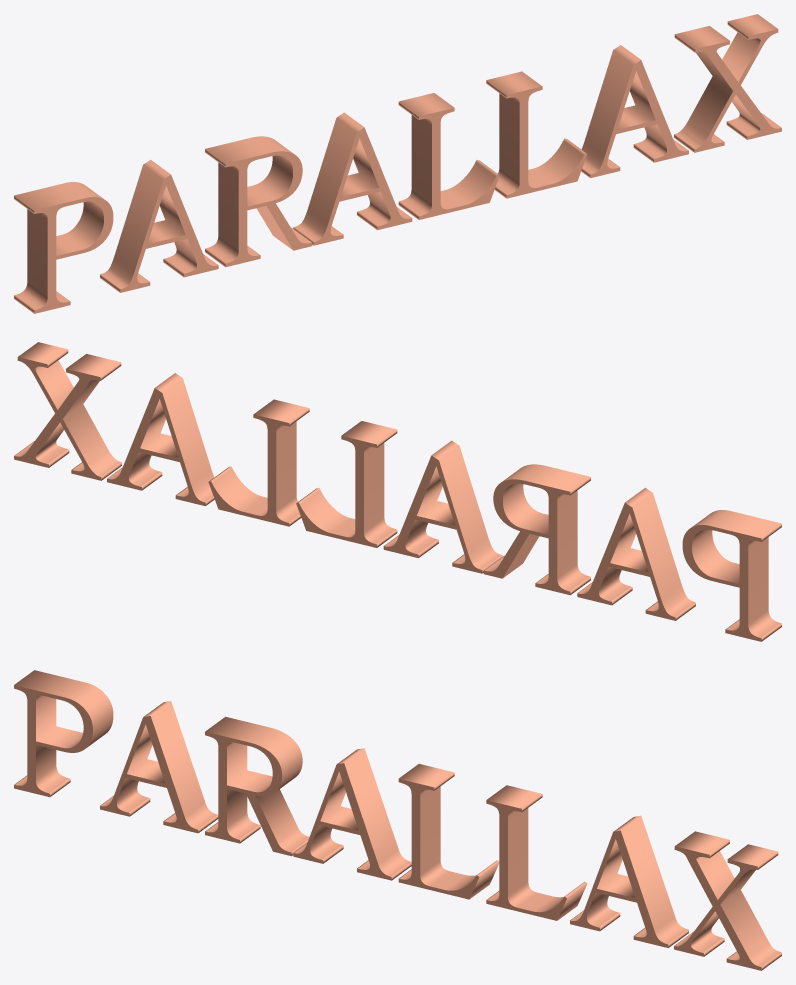
File: parallax_text.gltf
3 views of the same model, one above another, from view 1: azimuth 30°, elevation 25°; view 2: azimuth 150°, elevation 25°; view 3: azimuth 330°, elevation 25° (orthographic).
Visible parts, largest first — view 1: Text; view 2: Text; view 3: Text.
Boxes of the visible parts, box(x1,y1,x2,y2) form: Text: box(14, 14, 781, 313); Text: box(14, 342, 781, 641); Text: box(14, 670, 781, 970).
Size of the model in its own units: 5.36 by 0.726 by 0.254.
